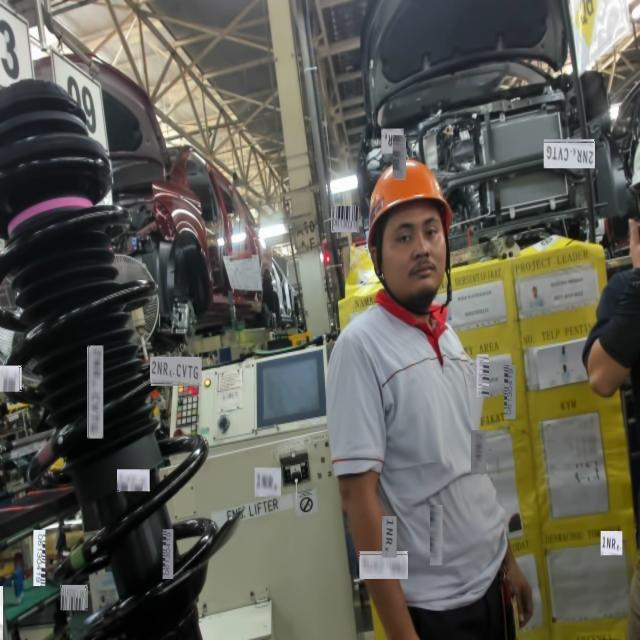Bumper-PK: (5, 186, 99, 245)
